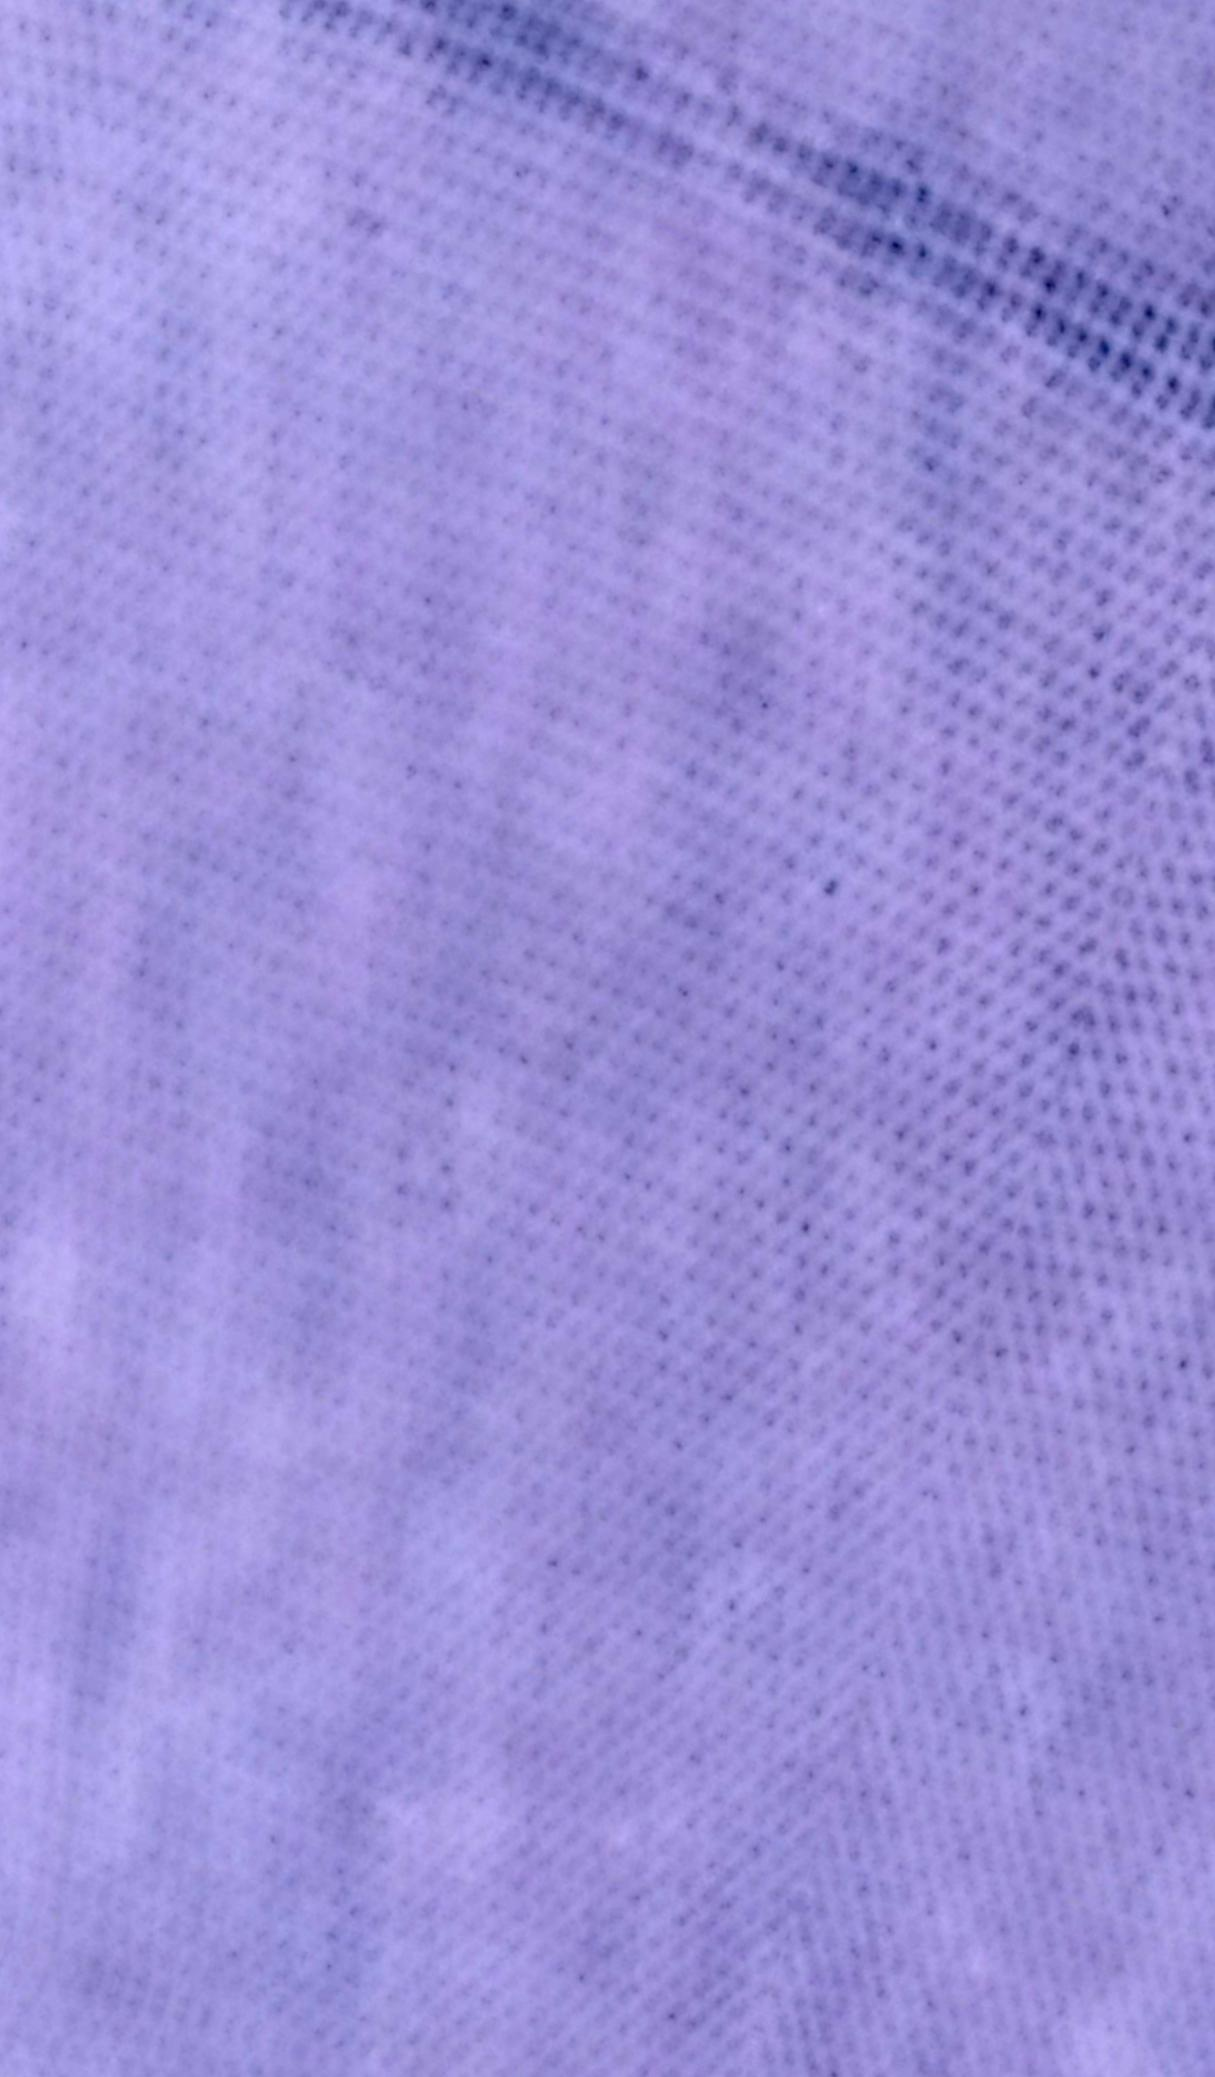slub: (317, 4, 1211, 427)
